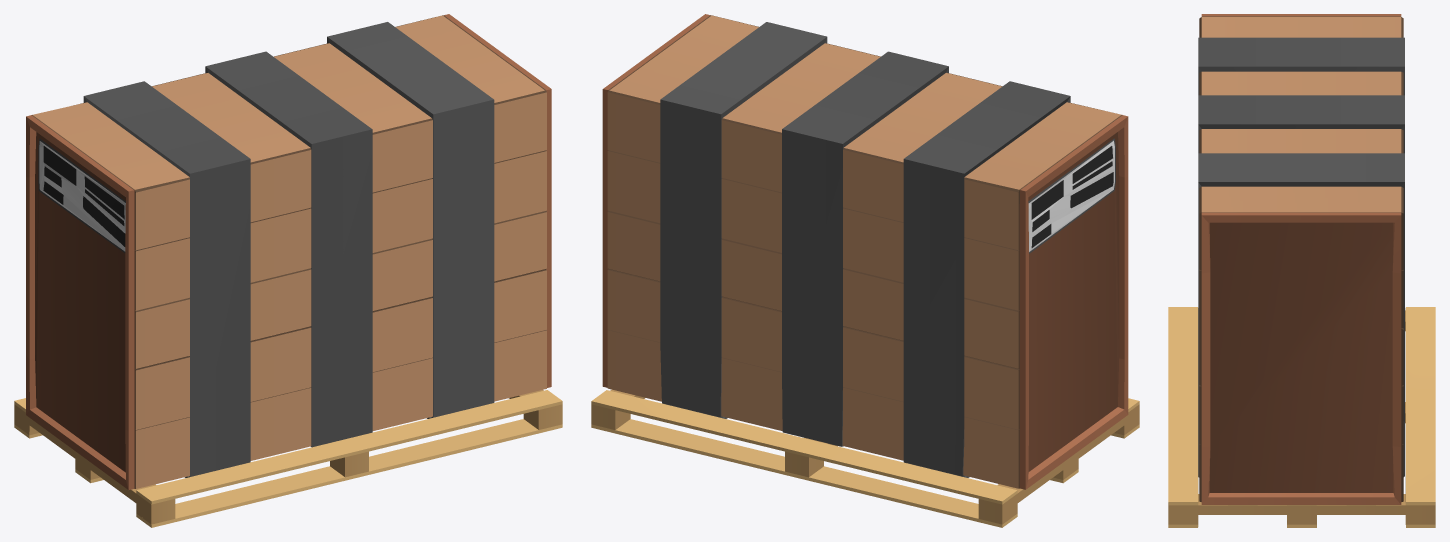
The model's file is Med Shipping Crate #2.fbx.
3 views of the same model, side by side, from view 1: azimuth 30°, elevation 25°; view 2: azimuth 150°, elevation 25°; view 3: azimuth 270°, elevation 25° (orthographic). The views are drawn at different scales.
Visible parts, largest first — view 1: Med Shipping Crate #2; view 2: Med Shipping Crate #2; view 3: Med Shipping Crate #2.
Boxes of the visible parts, x1,y1,x2,y2 form: Med Shipping Crate #2: (14, 14, 562, 527); Med Shipping Crate #2: (591, 14, 1139, 527); Med Shipping Crate #2: (1168, 14, 1435, 527).
Bounding box in the file's own units: 469 × 354 × 630.
Materials: 1 (1 with a texture image).
